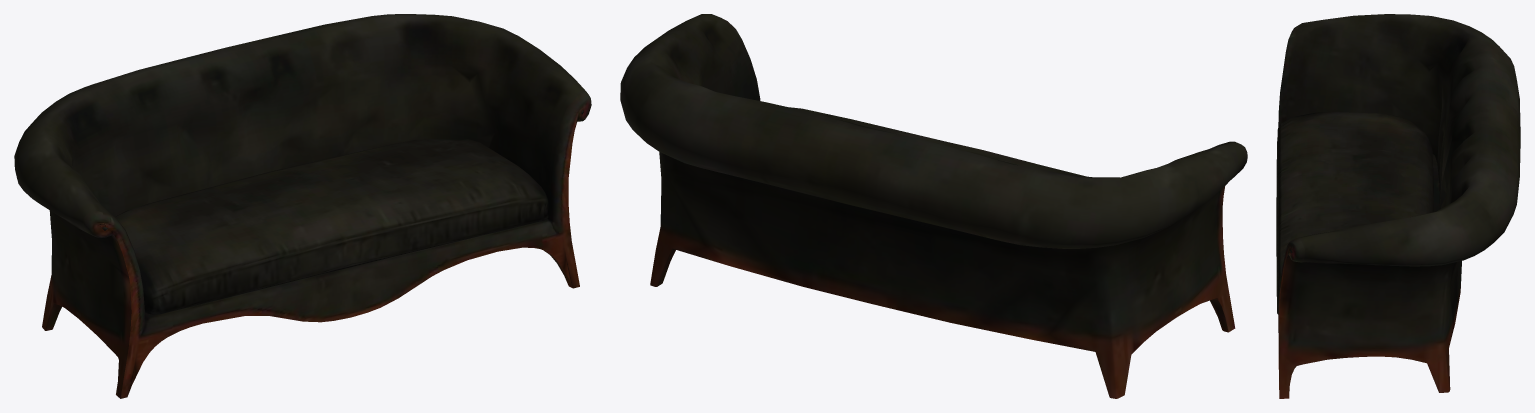
The model's file is sofa_02.glb.
The picture shows the model from 3 angles, left to right: view 1: azimuth 30°, elevation 25°; view 2: azimuth 150°, elevation 25°; view 3: azimuth 270°, elevation 25°; orthographic projection. The views are drawn at different scales.
Visible parts, largest first — view 1: sofa_02_Base; view 2: sofa_02_Base; view 3: sofa_02_Base.
Part boxes in pixels (x1,y1,x2,y2): sofa_02_Base: (14, 14, 591, 398); sofa_02_Base: (620, 14, 1247, 398); sofa_02_Base: (1276, 14, 1520, 398).
Bounding box in the file's own units: 1.81 × 0.7095 × 0.8176.
Materials: 1 (1 with a texture image).
